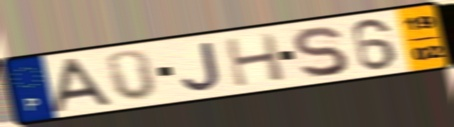0: (105, 48, 159, 104)
6: (351, 16, 399, 72)
A: (48, 55, 117, 115)
H: (221, 31, 289, 90)
J: (179, 39, 224, 93)
S: (290, 24, 351, 80)
